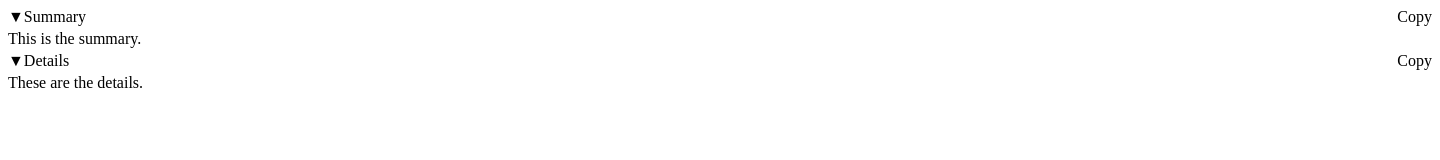
ResultDisplay › re-expands a collapsed section
This screenshot has width=1440, height=160.
Click the button "▼ Summary" at (47, 17), box x1=8 y1=8 x2=86 y2=26
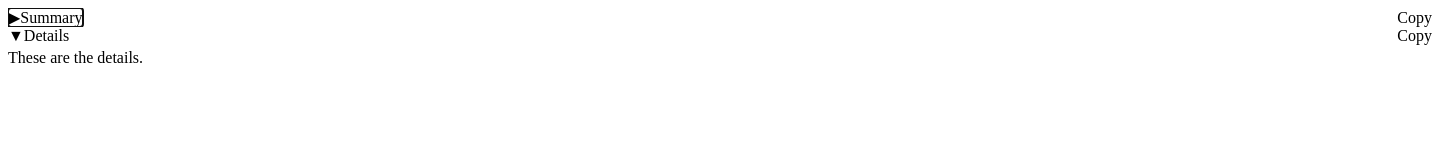
Click the button "▶ Summary" at (45, 18), box x1=8 y1=8 x2=82 y2=27
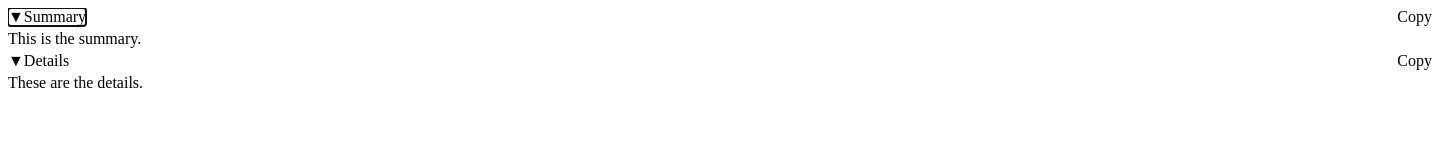
Check: the text "This is the summary." is shown, box x1=8 y1=30 x2=141 y2=47
